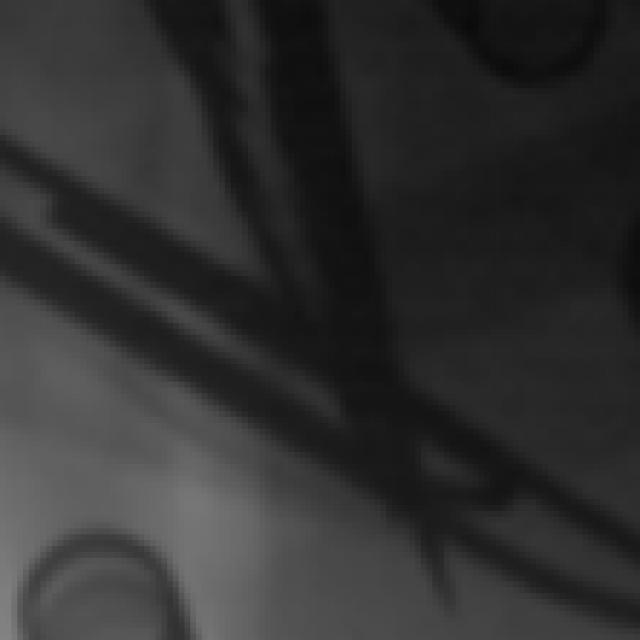GUN: (122, 1, 480, 612)
